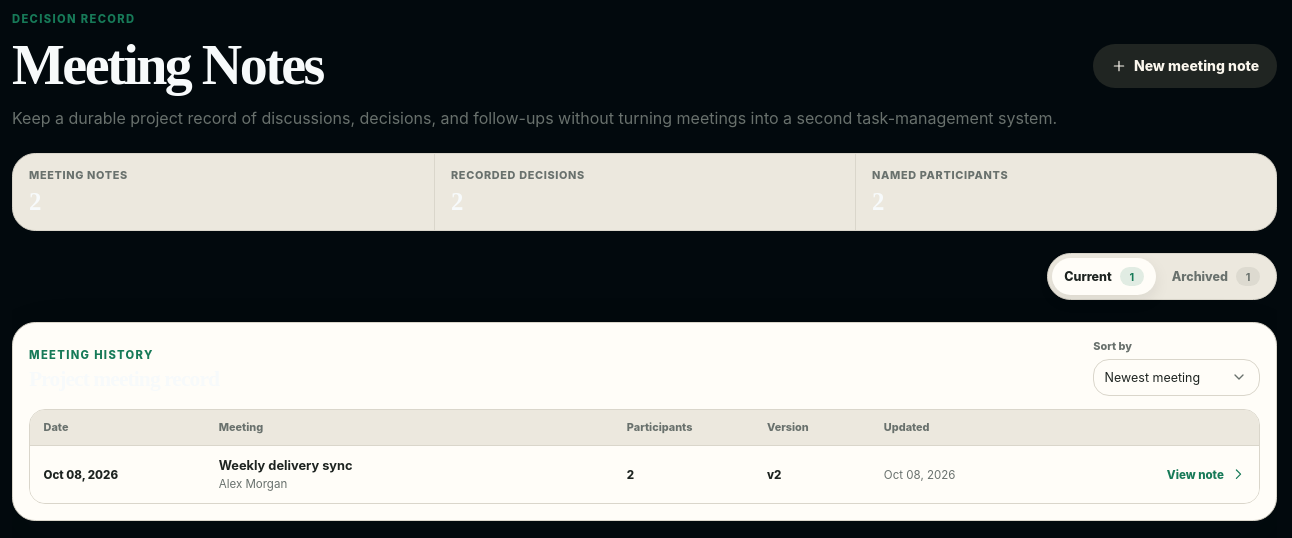
Meeting Notes lifecycle views › filters Current and Archived without changing summary KPIs
expect the text "Weekly delivery sync" is shown: met, box [219,458,353,474]
expect the text "Archived retrospective" is not shown: met
Click the tab "Archived 1": click(1216, 276) [1160,258,1272,295]
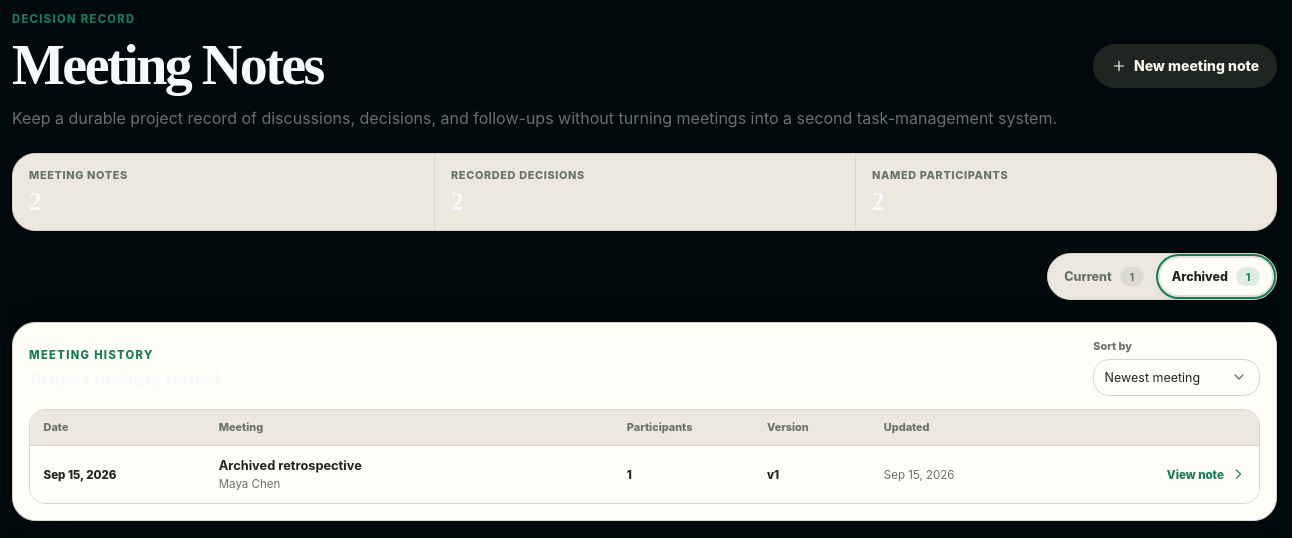
expect the text "Archived retrospective" is shown: met, box [219,458,362,474]
expect the link "Weekly delivery sync" is gone: met
